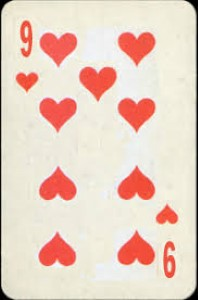NineOfHearts: (1, 1, 198, 293)
